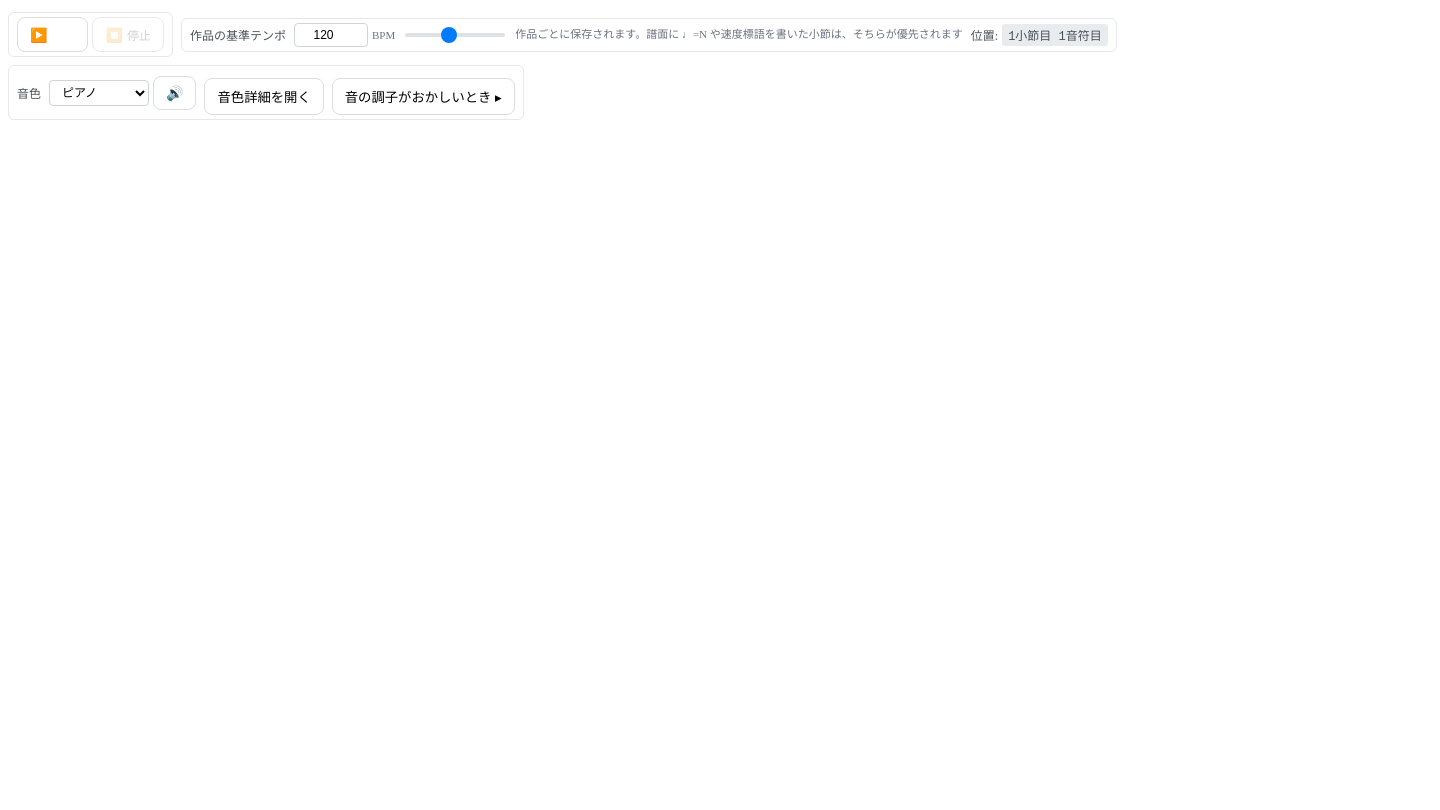
PlaybackControls › SoundFontパック名の説明文（Issue #551） › 音色詳細を開くと MusyngKite 推奨の一言が説明文に出る
説明文は「音色詳細」の中にあるので、まず開いてから確認する
What coordinates should you click on to do the following:
click the button "音色詳細を開く"
I would click on:
 (264, 96)
Its box is [204,78,324,115].
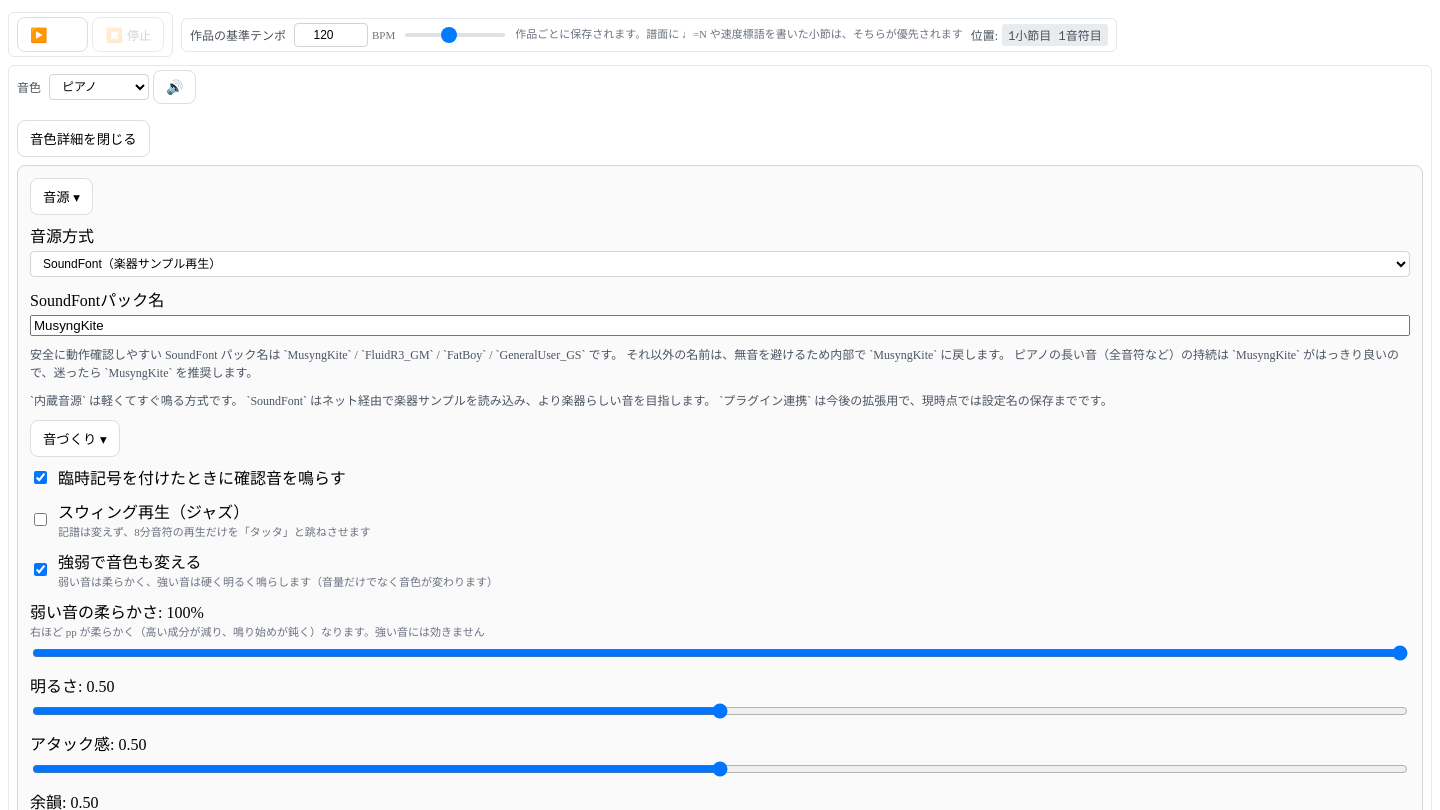
Check: the text "ピアノの長い音" shows "迷ったら `MusyngKite` を推奨します。", box [30,348,1399,380]
Check: the number of fields labelled "SoundFontパック名" is 1, box [30,315,1410,336]
